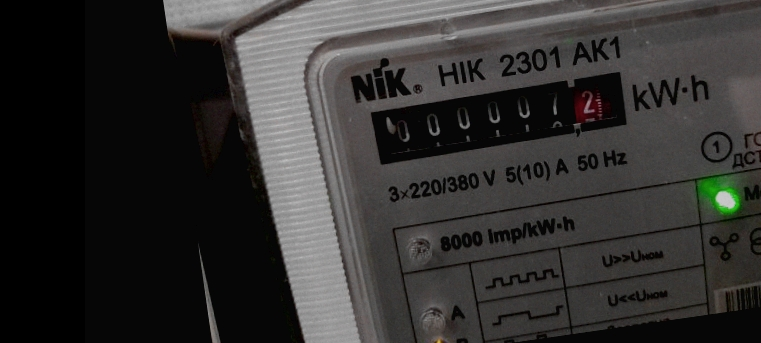0: (424, 109, 445, 139), (454, 102, 475, 132), (514, 91, 534, 121), (394, 115, 414, 144), (485, 96, 504, 125)
2: (579, 86, 599, 117)
7: (544, 88, 564, 119)
screen: (362, 61, 642, 171)
